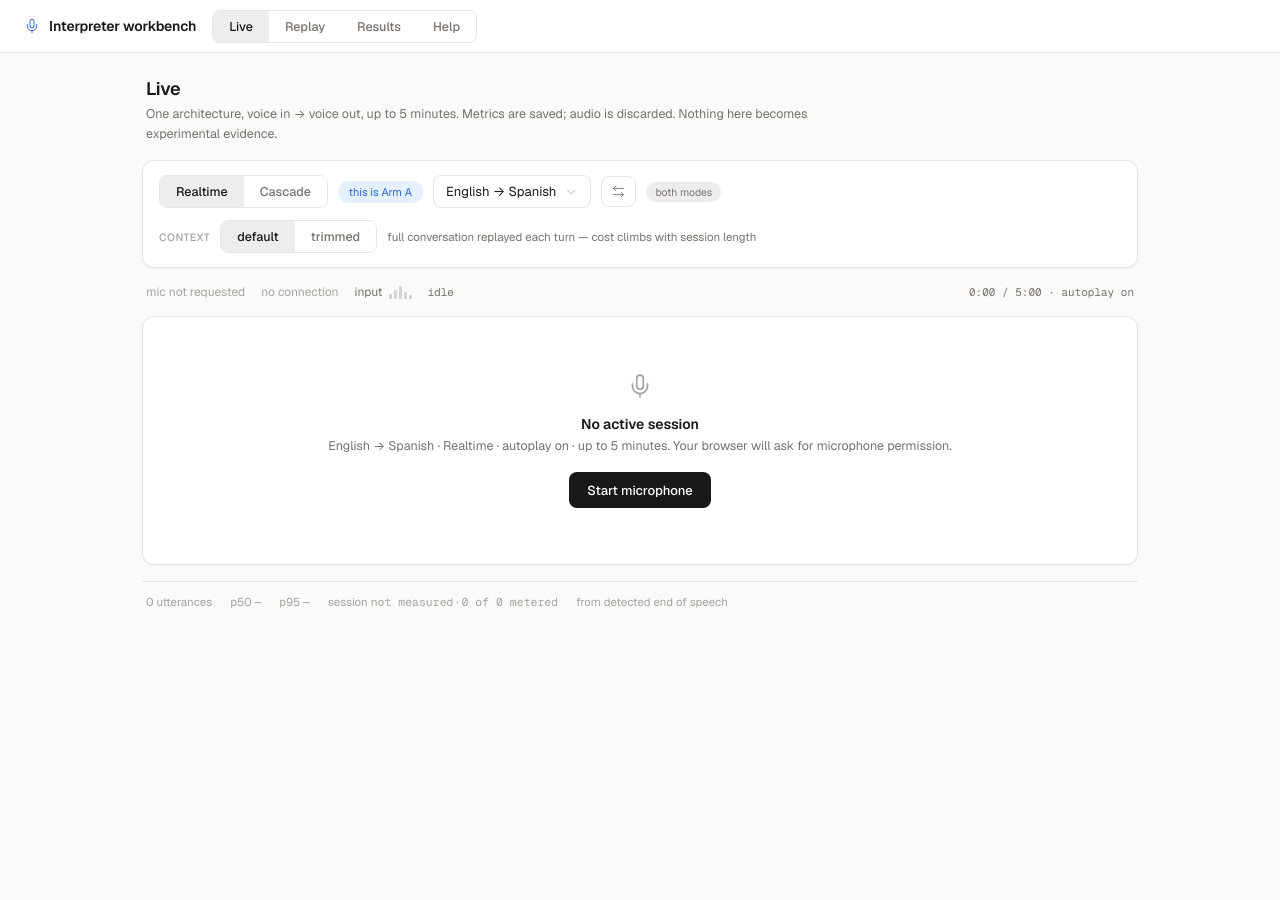
TICKET 062 — a Live utterance RECORD names the selected languages › switching the pair to EN↔YUE files the record as EN↔YUE / en→yue
The width and height of the screenshot is (1280, 900).
Step 1. Click the button "Start microphone" → (640, 490), box [569,472,711,508]
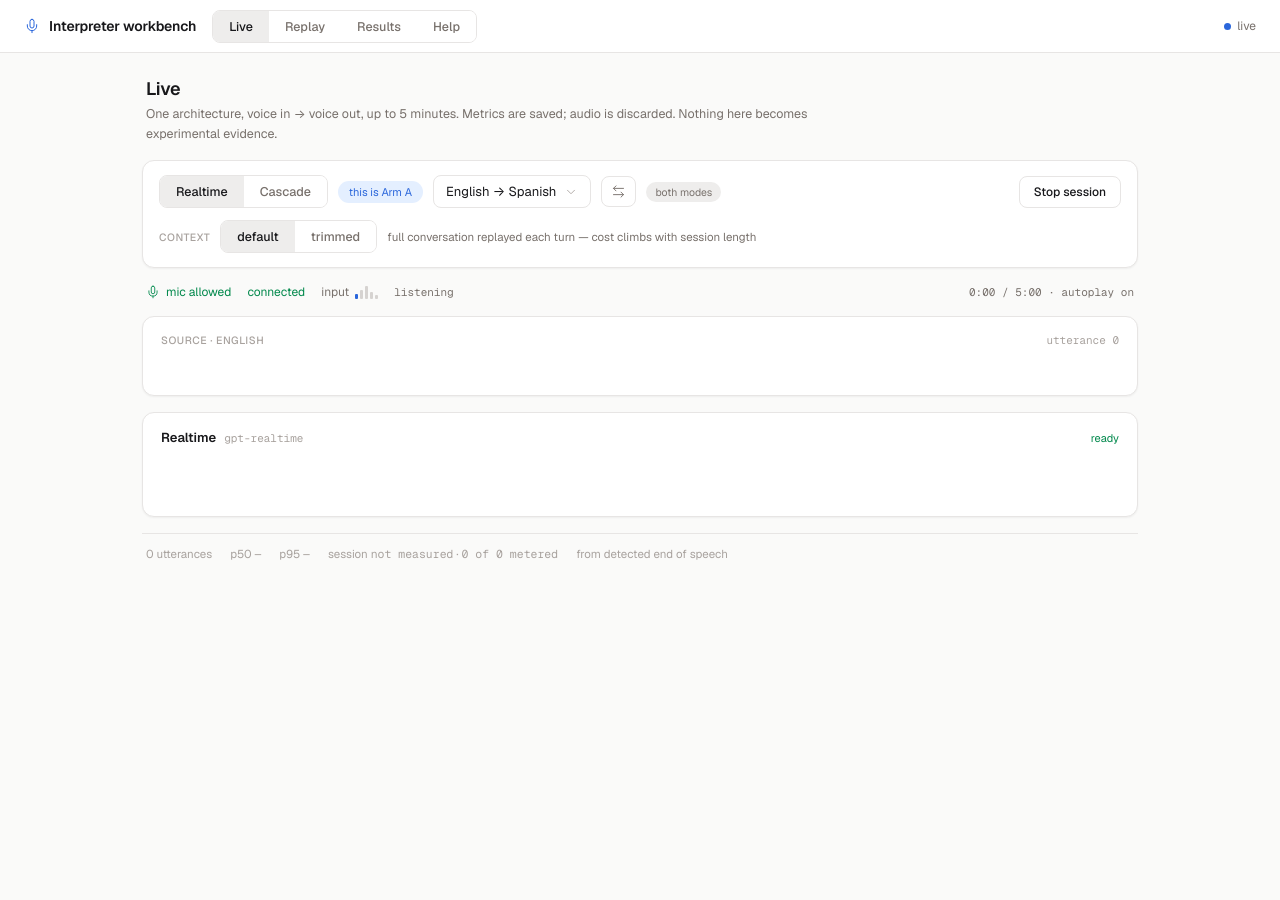
Step 2. Click the button "English → Spanish" → (512, 192), box [433,175,591,208]
Wait 1400 ms
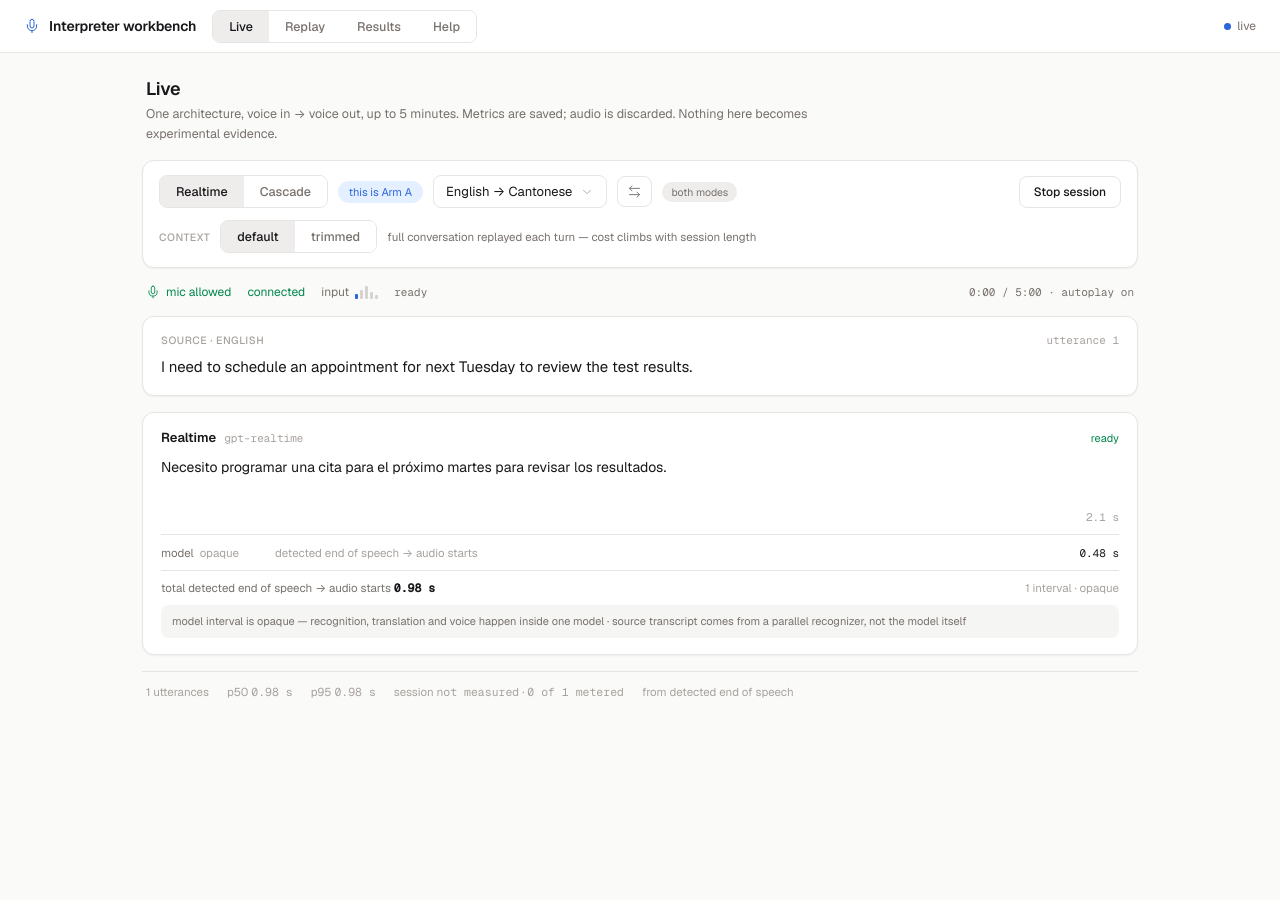
Check: the button "English → Cantonese" is shown, box [433,175,607,208]
